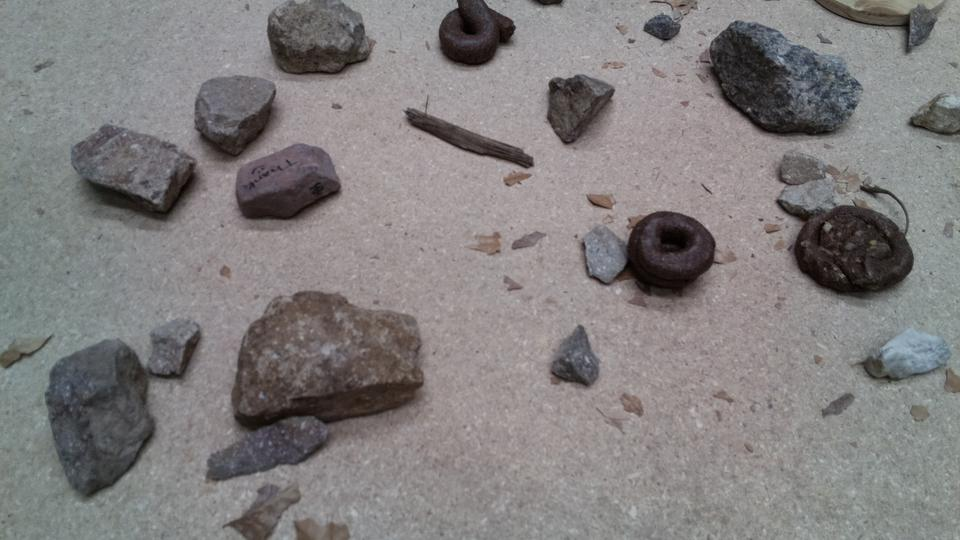poop: (790, 203, 916, 297), (625, 208, 715, 293), (437, 1, 518, 67)
